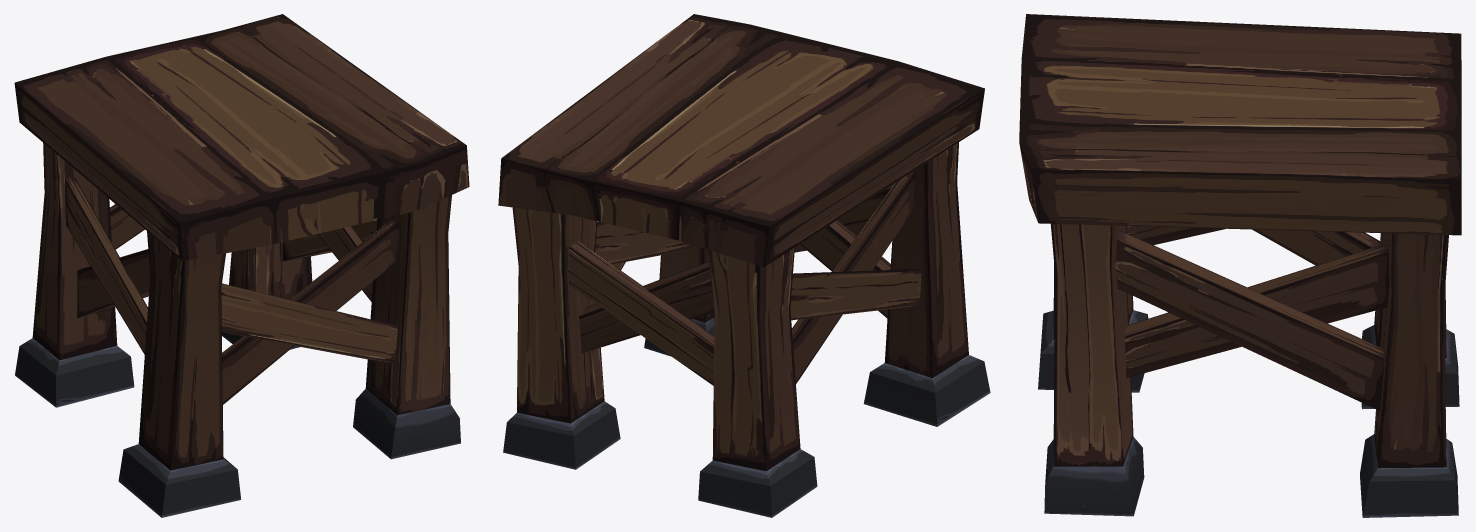
The model's file is SM_PROP_chair_02_dungeon.fbx.
The picture shows the model from 3 angles, left to right: view 1: azimuth 30°, elevation 25°; view 2: azimuth 150°, elevation 25°; view 3: azimuth 270°, elevation 25°; orthographic projection. The views are drawn at different scales.
Visible parts, largest first — view 1: SM_PROP_chair_02_dungeon; view 2: SM_PROP_chair_02_dungeon; view 3: SM_PROP_chair_02_dungeon.
Part boxes in pixels (<box>): SM_PROP_chair_02_dungeon: <box>14,14,469,517</box>; SM_PROP_chair_02_dungeon: <box>498,14,990,517</box>; SM_PROP_chair_02_dungeon: <box>1019,14,1461,517</box>.
Bounding box in the file's own units: 43.82 × 41.02 × 47.67.
